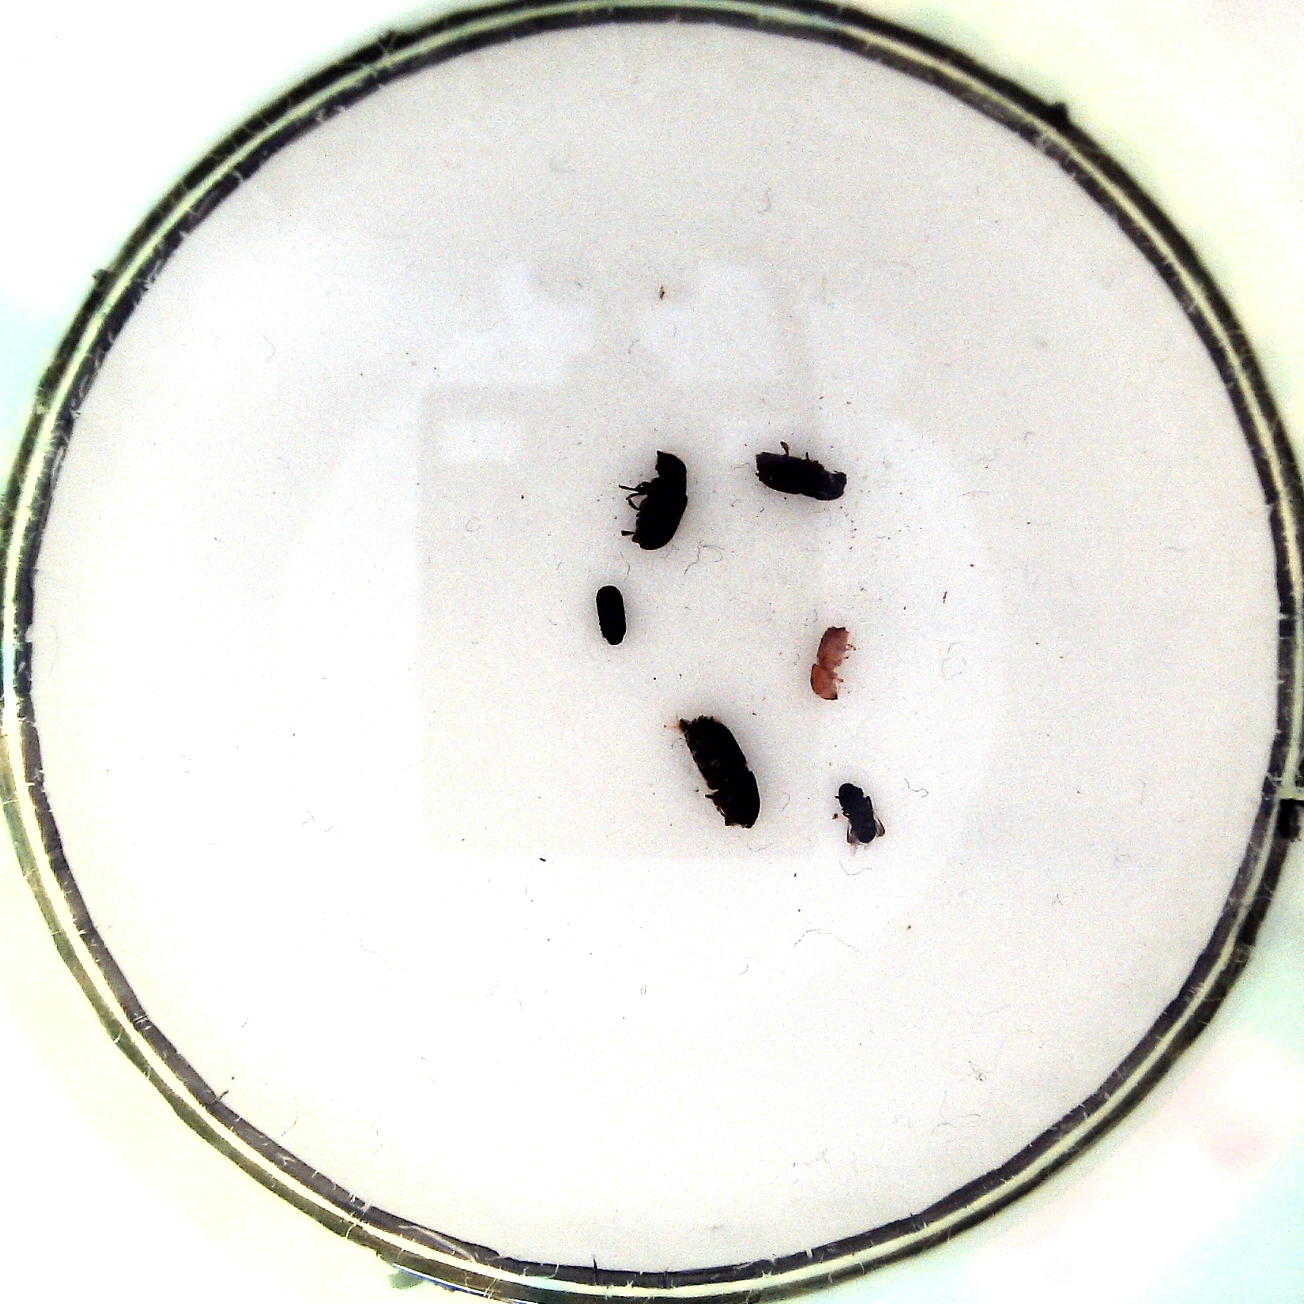Boerner: (666, 708, 765, 838)
Linnaeus: (750, 433, 853, 510)
acuminatus: (802, 621, 859, 705)
armandi: (613, 445, 694, 552)
coleoptera: (834, 777, 888, 854), (586, 577, 635, 651)
